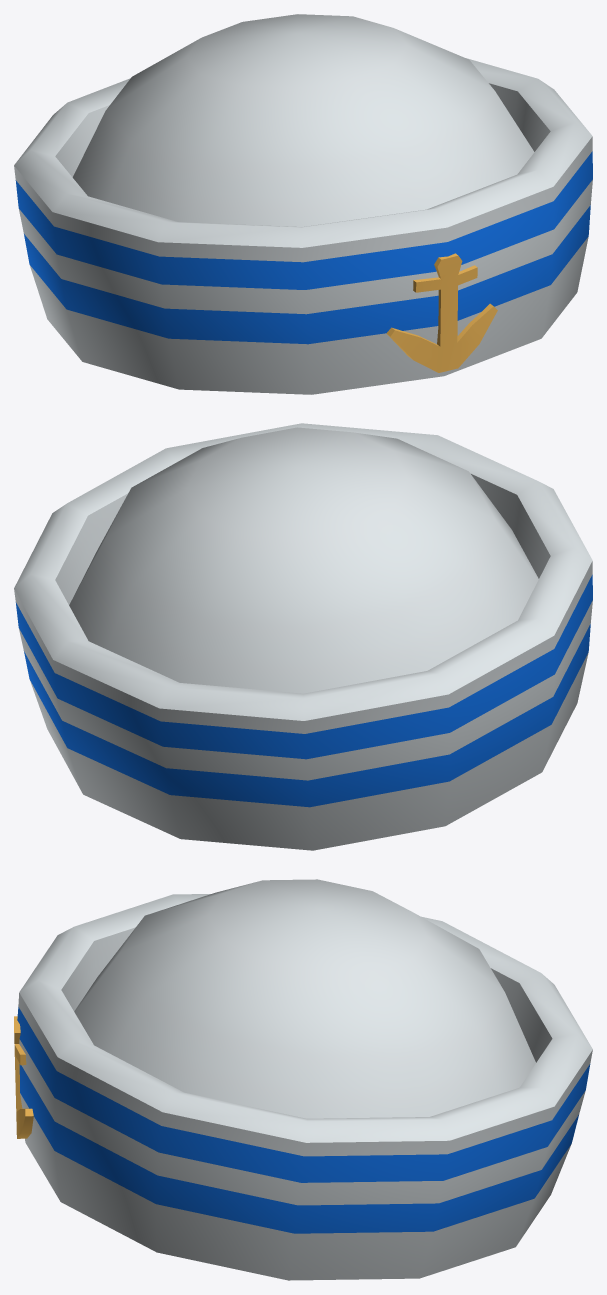
File: Headgear_29.fbx
The picture shows the model from 3 angles, top to bottom: view 1: azimuth 30°, elevation 25°; view 2: azimuth 150°, elevation 25°; view 3: azimuth 270°, elevation 25°; orthographic projection.
Parts seen in each view (by area): view 1: Headgear_29; view 2: Headgear_29; view 3: Headgear_29.
Boxes of the visible parts, x1,y1,x2,y2 form: Headgear_29: (14, 14, 592, 394); Headgear_29: (14, 423, 592, 850); Headgear_29: (14, 879, 592, 1280).
Size of the model in its own units: 72.36 by 39.49 by 72.59.
